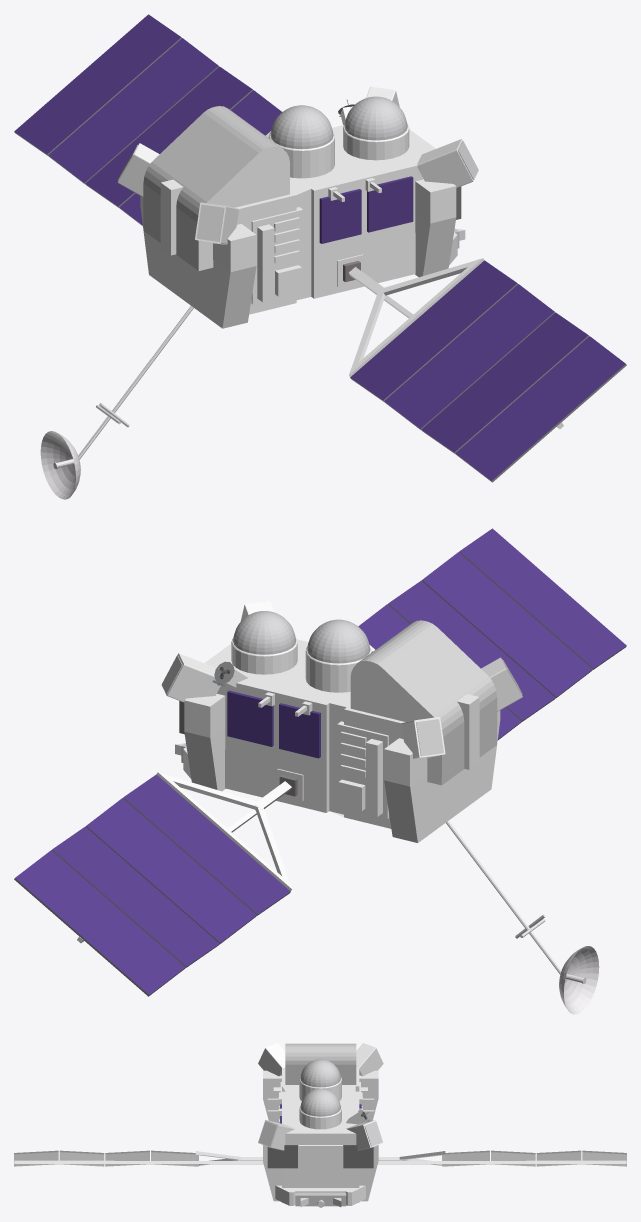
File: gamma-ray-observatory.glb
The picture shows the model from 3 angles, top to bottom: view 1: azimuth 30°, elevation 25°; view 2: azimuth 150°, elevation 25°; view 3: azimuth 270°, elevation 25°; orthographic projection. The views are drawn at different scales.
Visible parts, largest first — view 1: <LWODefault>; view 2: <LWODefault>; view 3: <LWODefault>.
Boxes of the visible parts, x1,y1,x2,y2 form: <LWODefault>: (14, 14, 626, 499); <LWODefault>: (14, 528, 626, 1014); <LWODefault>: (14, 1043, 626, 1207).
Size of the model in its own units: 1.51 by 1.21 by 3.17.
5 materials, 5 textured.
